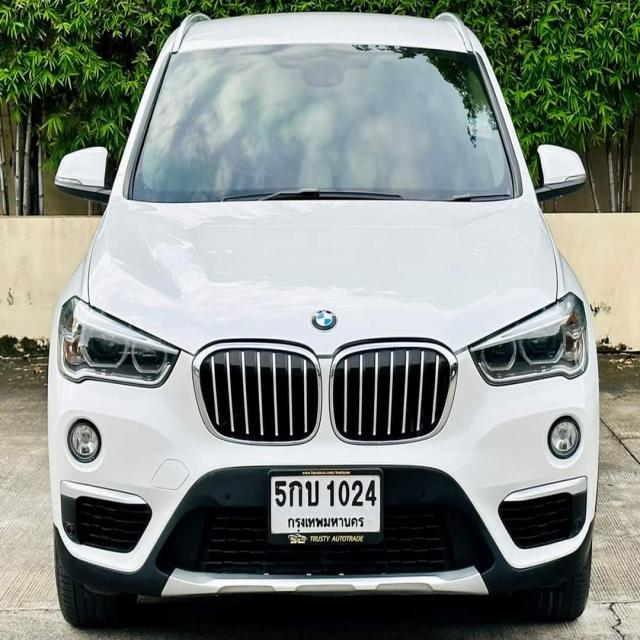license_plate: (263, 466, 387, 552)
